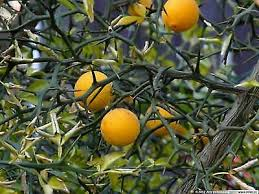orange: (68, 69, 112, 111), (100, 103, 140, 146), (157, 1, 205, 33), (145, 103, 180, 140)
